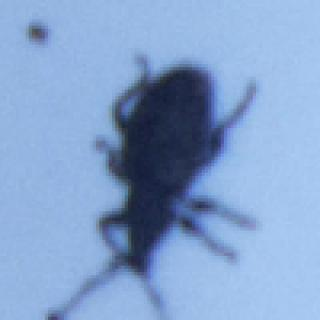bvw: (45, 51, 259, 320)
